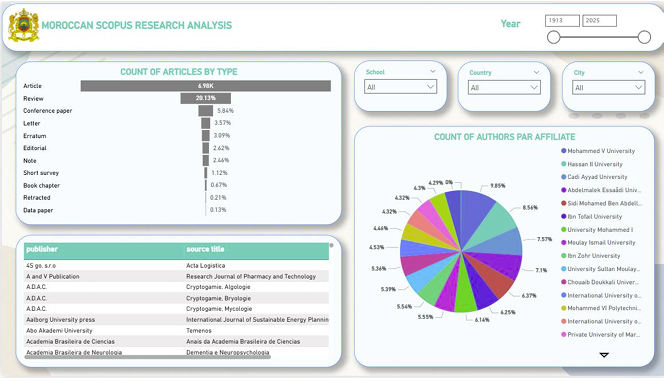

Layout of this report page (visuals, bound fields, positions):
{"tool":"powerbi","page":{"name":"Dashboard6","canvas":[1280,720],"ordinal":5},"visuals":[{"type":"slicer","fields":{"Values":["Affiliation.city"]},"box":[1081,113.4,179.5,96.4],"z":0},{"type":"slicer","fields":{"Values":["Affiliation.country"]},"box":[880.6,113.4,179.5,96.4],"z":1000},{"type":"slicer","fields":{"Values":["Affiliation.school"]},"box":[680.3,111.5,179.5,98.3],"z":2000},{"type":"pieChart","title":"COUNT OF AUTHORS PAR AFFILIATE","fields":{"Category":["Affiliation.university"],"Y":["CountNonNull(Metadata.doc_id)"]},"box":[680.3,238.1,580.2,464.9],"z":3000},{"type":"tableEx","title":"Publisher et source","fields":{"Values":["Journal.publisher","Metadata.source title"]},"box":[26.5,447.9,629.3,255.1],"z":4000},{"type":"funnel","title":"COUNT OF ARTICLES BY TYPE","fields":{"Category":["Document.document type"],"Y":["CountNonNull(Journal.type)"]},"box":[26.5,113.4,629.3,315.6],"z":5000},{"type":"textbox","box":[0,2,1280,92],"z":6000},{"type":"image","box":[0,0,84.5,84.5],"z":7000},{"type":"textbox","box":[71.8,26.5,393.1,41.6],"z":8000},{"type":"textbox","box":[958,24,68,34.7],"z":9000},{"type":"slicer","fields":{"Values":["Metadata.year"]},"box":[1026,3.3,244,86.7],"z":10000}]}

Visuals, with their boxes in screenshot pixels (x1, y1, x2, y2), scaled from the page's 1280x720 canvas onto the 665x381 screenshot:
slicer - Affiliation.city: {"x1": 562, "y1": 60, "x2": 655, "y2": 111}
slicer - Affiliation.country: {"x1": 457, "y1": 60, "x2": 551, "y2": 111}
slicer - Affiliation.school: {"x1": 353, "y1": 59, "x2": 447, "y2": 111}
"COUNT OF AUTHORS PAR AFFILIATE" pieChart: {"x1": 353, "y1": 126, "x2": 655, "y2": 372}
"Publisher et source" tableEx: {"x1": 14, "y1": 237, "x2": 341, "y2": 372}
"COUNT OF ARTICLES BY TYPE" funnel: {"x1": 14, "y1": 60, "x2": 341, "y2": 227}
textbox: {"x1": 0, "y1": 1, "x2": 664, "y2": 50}
image: {"x1": 0, "y1": 0, "x2": 44, "y2": 45}
textbox: {"x1": 37, "y1": 14, "x2": 242, "y2": 36}
textbox: {"x1": 498, "y1": 13, "x2": 533, "y2": 31}
slicer - Metadata.year: {"x1": 533, "y1": 2, "x2": 660, "y2": 48}
